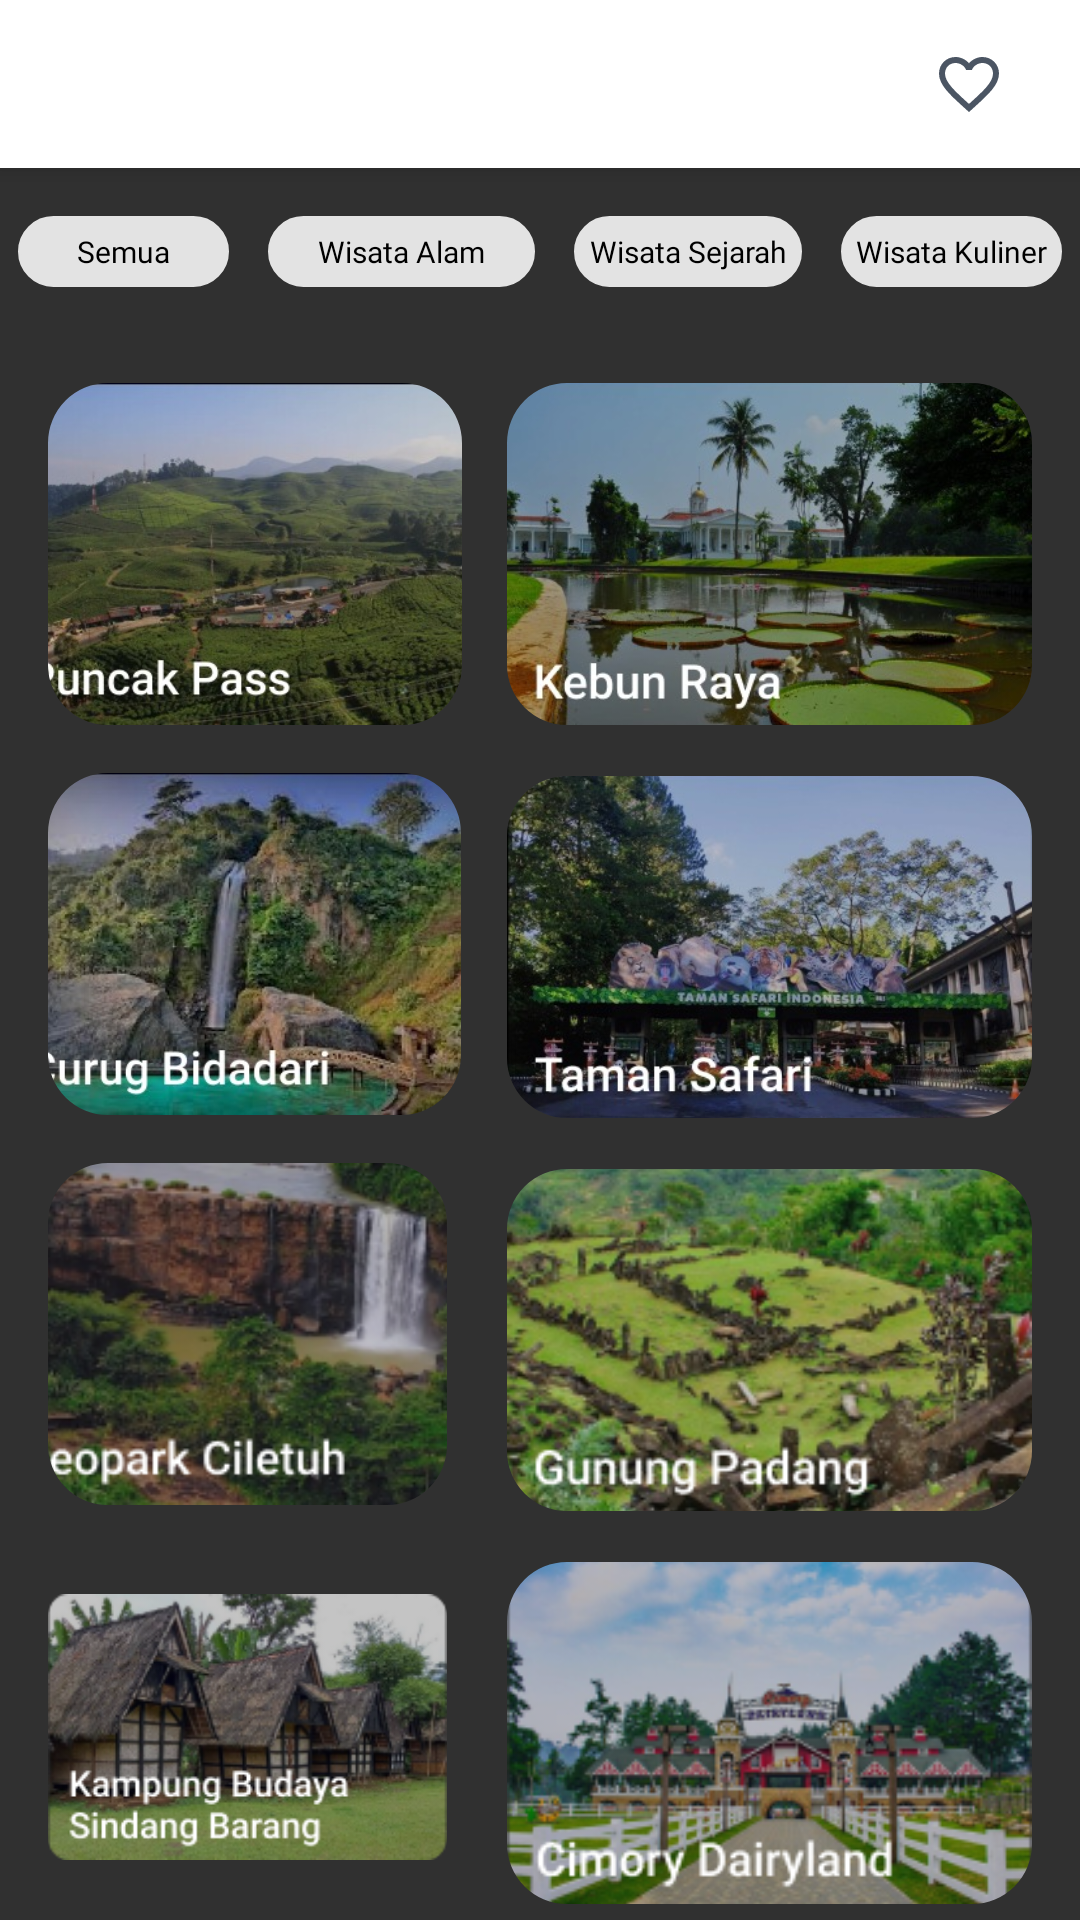

Icons on this 1080 × 1920 Android screen, each with its box as (x1, y1, x2, y2):
heart: (939, 57, 999, 112)
